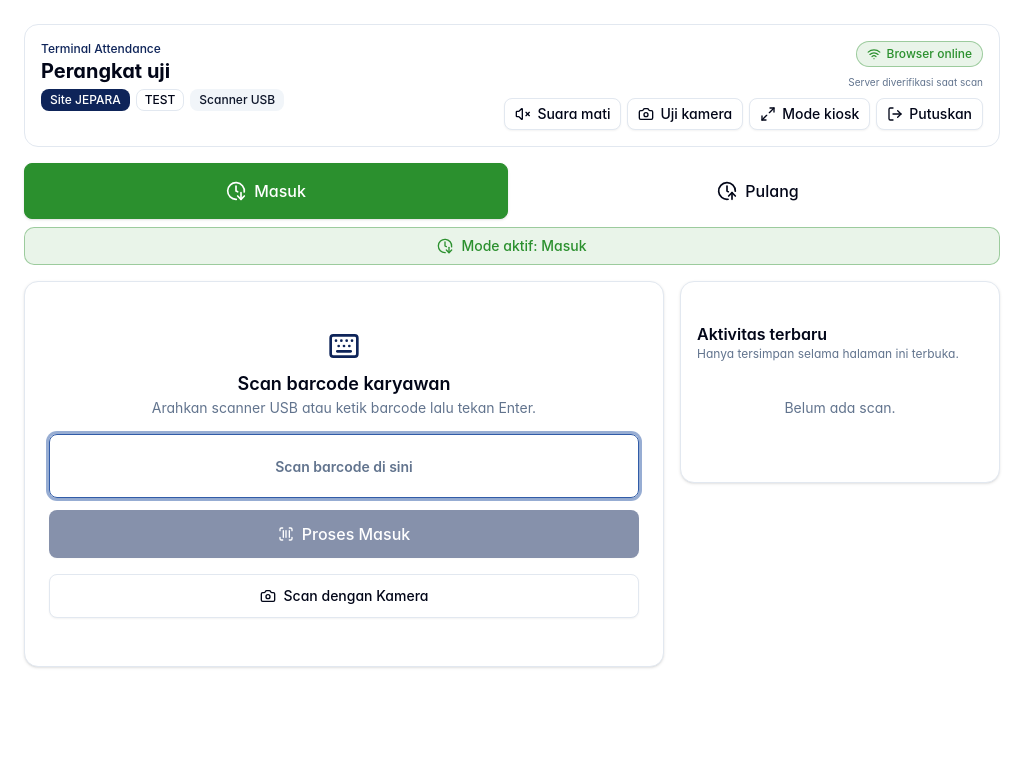
attendance activation retention › only discards explicitly invalid device: 401 DEVICE_SESSION_INVALID
The image size is (1024, 768).
Type "TEST-001" into the field named "Barcode karyawan". click: (344, 466)
box: [49, 434, 639, 498]
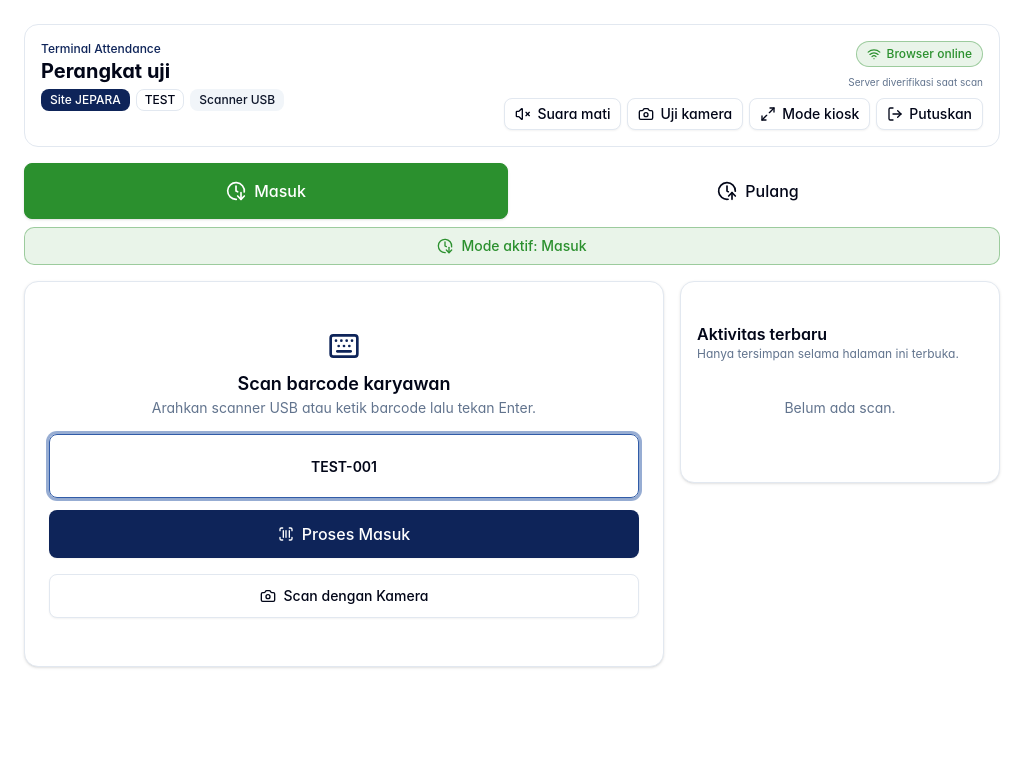
Click the button "Proses Masuk". click: (344, 534)
box: [49, 510, 639, 558]
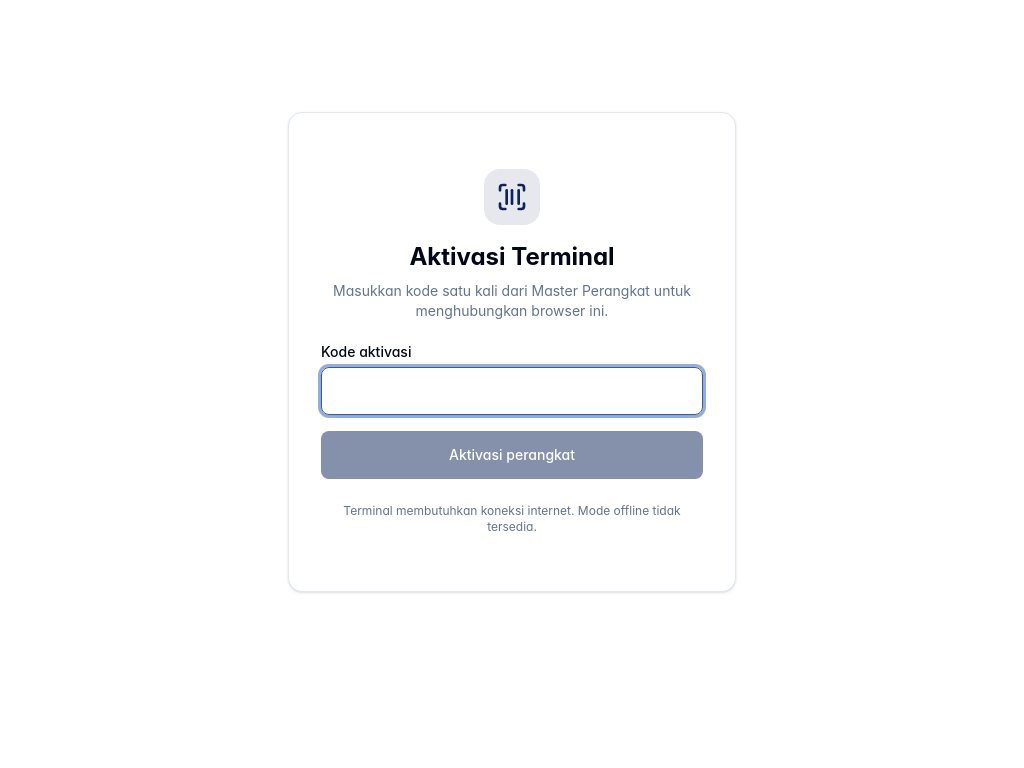
Check: the field labelled "Kode aktivasi" is shown, box [321, 367, 703, 415]
